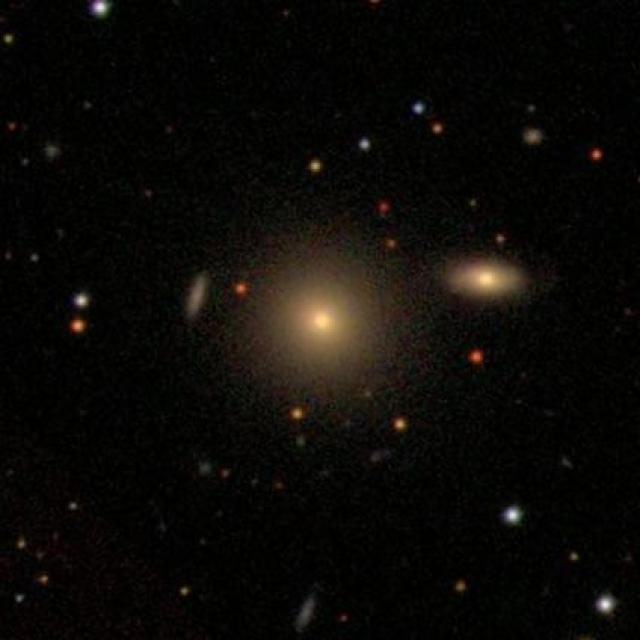galaxy: (233, 222, 419, 416), (437, 250, 538, 316), (290, 585, 324, 638), (182, 267, 213, 325), (364, 444, 402, 470), (594, 589, 621, 616), (517, 125, 547, 149), (40, 139, 65, 167), (586, 143, 610, 165), (388, 413, 412, 435), (67, 315, 89, 338), (503, 502, 523, 526), (284, 406, 309, 424), (467, 345, 487, 367), (409, 99, 429, 120), (375, 201, 395, 222), (89, 1, 111, 20), (209, 501, 228, 523), (558, 452, 578, 472), (306, 154, 327, 173), (1, 27, 19, 48), (72, 291, 94, 308), (232, 280, 251, 299), (430, 121, 451, 138), (270, 478, 289, 496), (357, 134, 373, 154), (382, 239, 401, 255), (80, 98, 97, 115), (9, 591, 26, 608), (568, 548, 584, 566), (294, 430, 308, 450), (493, 232, 509, 249), (14, 535, 30, 552), (452, 580, 471, 594), (622, 300, 636, 319), (198, 460, 213, 477), (197, 532, 211, 550), (35, 546, 49, 563), (39, 570, 52, 588), (513, 391, 525, 410), (180, 584, 193, 601), (29, 251, 43, 264), (144, 188, 156, 203), (7, 118, 18, 134), (162, 124, 178, 135), (51, 531, 63, 545), (470, 194, 480, 210), (67, 501, 79, 513), (339, 612, 350, 624), (280, 7, 291, 19), (21, 154, 31, 167), (250, 475, 260, 486), (223, 470, 232, 481), (528, 104, 535, 113), (3, 253, 12, 259)
